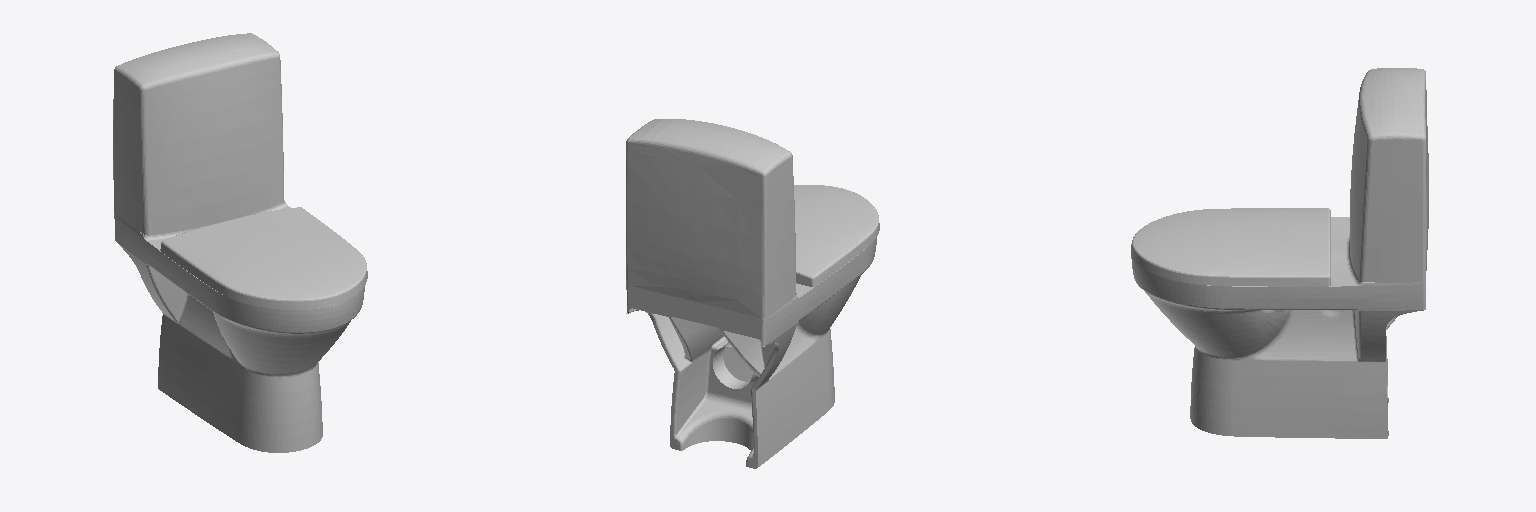
The picture shows the model from 3 angles: view 1: azimuth 30°, elevation 25°; view 2: azimuth 150°, elevation 25°; view 3: azimuth 270°, elevation 25°; orthographic projection.
Parts seen in each view (by area): view 1: kompakt_wc_OLIMPIA_ZBIORNIK_CERSANIT, kompakt_wc_OLIMPIA_wc1, kompakt_wc_OLIMPIA_DESKA_CERSANIT; view 2: kompakt_wc_OLIMPIA_ZBIORNIK_CERSANIT, kompakt_wc_OLIMPIA_wc1, kompakt_wc_OLIMPIA_DESKA_CERSANIT; view 3: kompakt_wc_OLIMPIA_wc1, kompakt_wc_OLIMPIA_ZBIORNIK_CERSANIT, kompakt_wc_OLIMPIA_DESKA_CERSANIT.
Part boxes in pixels (x1,y1,x2,y2): kompakt_wc_OLIMPIA_ZBIORNIK_CERSANIT: (113,33,283,235); kompakt_wc_OLIMPIA_wc1: (114,200,364,452); kompakt_wc_OLIMPIA_DESKA_CERSANIT: (160,207,367,309); kompakt_wc_OLIMPIA_ZBIORNIK_CERSANIT: (626,119,796,317); kompakt_wc_OLIMPIA_wc1: (626,238,876,468); kompakt_wc_OLIMPIA_DESKA_CERSANIT: (794,185,879,286); kompakt_wc_OLIMPIA_wc1: (1131,217,1425,438); kompakt_wc_OLIMPIA_ZBIORNIK_CERSANIT: (1350,68,1428,282); kompakt_wc_OLIMPIA_DESKA_CERSANIT: (1131,208,1330,286).
Bounding box in the file's own units: 0.3671 × 0.802 × 0.6645.